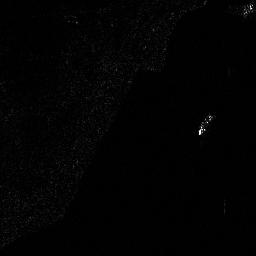ship: (197, 113, 215, 135)
